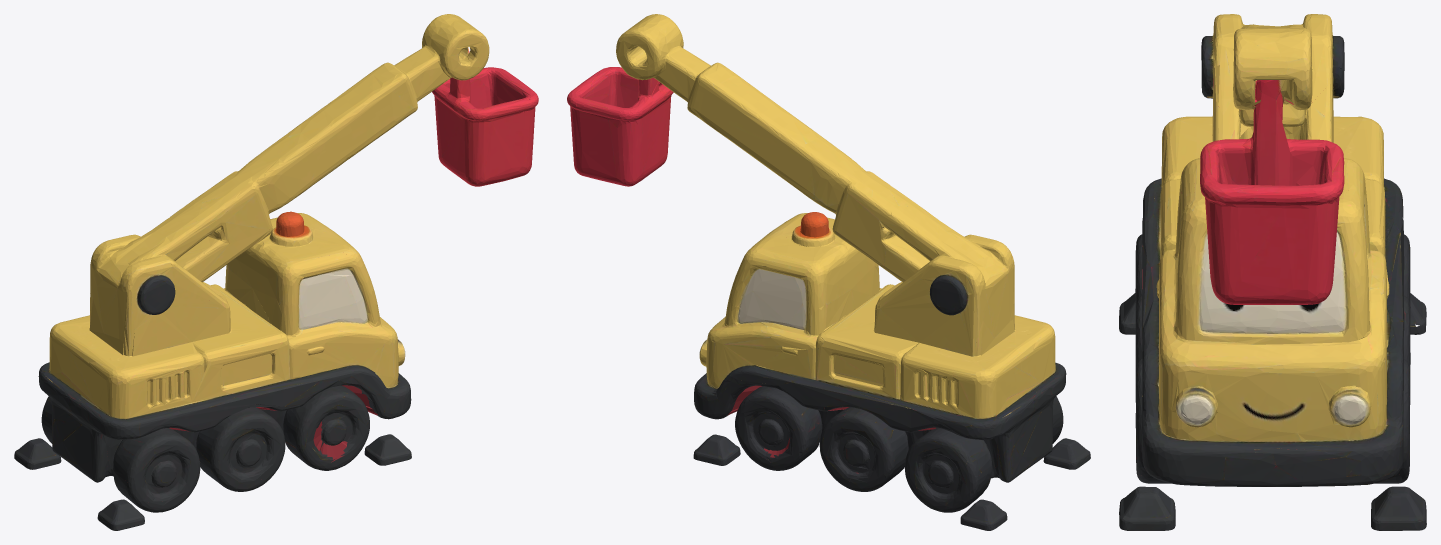
File: cherrypicker_v1.glb
3 views of the same model, side by side, from view 1: azimuth 30°, elevation 25°; view 2: azimuth 150°, elevation 25°; view 3: azimuth 270°, elevation 25° (orthographic). The views are drawn at different scales.
Visible parts, largest first — view 1: body_mesh, boom_mesh, basket_mesh, wheelR_mesh, wheelM_mesh, wheelF_mesh, beacon_mesh; view 2: body_mesh, boom_mesh, basket_mesh, wheelR_mesh, wheelM_mesh, wheelF_mesh, beacon_mesh; view 3: body_mesh, basket_mesh, boom_mesh, beacon_mesh, wheelF_mesh, wheelM_mesh, wheelR_mesh.
Boxes of the visible parts, left/top/right/bottom form: body_mesh: left=14, top=213, right=411, bottom=530; boom_mesh: left=90, top=14, right=489, bottom=355; basket_mesh: left=432, top=67, right=538, bottom=186; wheelR_mesh: left=41, top=396, right=199, bottom=505; wheelM_mesh: left=197, top=404, right=285, bottom=482; wheelF_mesh: left=307, top=376, right=386, bottom=460; beacon_mesh: left=258, top=211, right=350, bottom=278; body_mesh: left=693, top=213, right=1090, bottom=530; boom_mesh: left=616, top=14, right=1014, bottom=355; basket_mesh: left=567, top=67, right=673, bottom=186; wheelR_mesh: left=905, top=396, right=1063, bottom=505; wheelM_mesh: left=819, top=405, right=934, bottom=483; wheelF_mesh: left=723, top=380, right=797, bottom=462; beacon_mesh: left=753, top=212, right=845, bottom=278; body_mesh: left=1119, top=60, right=1426, bottom=530; basket_mesh: left=1200, top=88, right=1344, bottom=304; boom_mesh: left=1201, top=14, right=1344, bottom=136; beacon_mesh: left=1181, top=117, right=1364, bottom=211; wheelF_mesh: left=1135, top=359, right=1410, bottom=476; wheelM_mesh: left=1135, top=295, right=1410, bottom=404; wheelR_mesh: left=1135, top=218, right=1410, bottom=307.
Bounding box in the file's own units: 3.2 × 2.51 × 1.23.
Materials: 1 (1 with a texture image).
